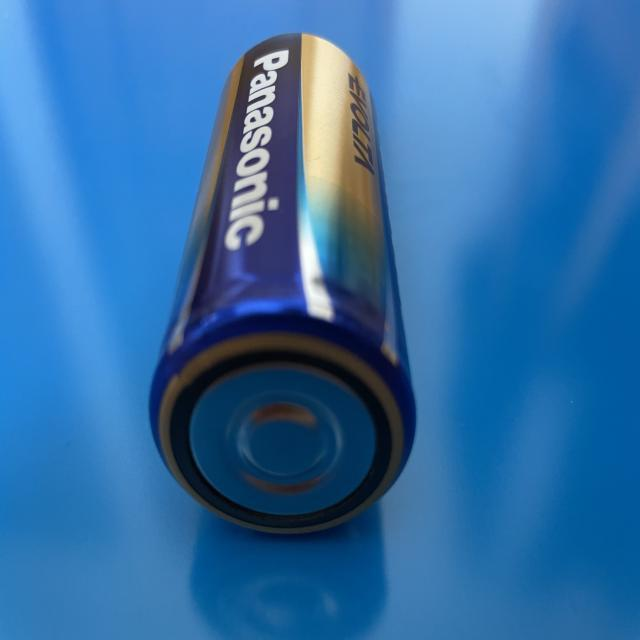AA: (144, 29, 421, 562)
